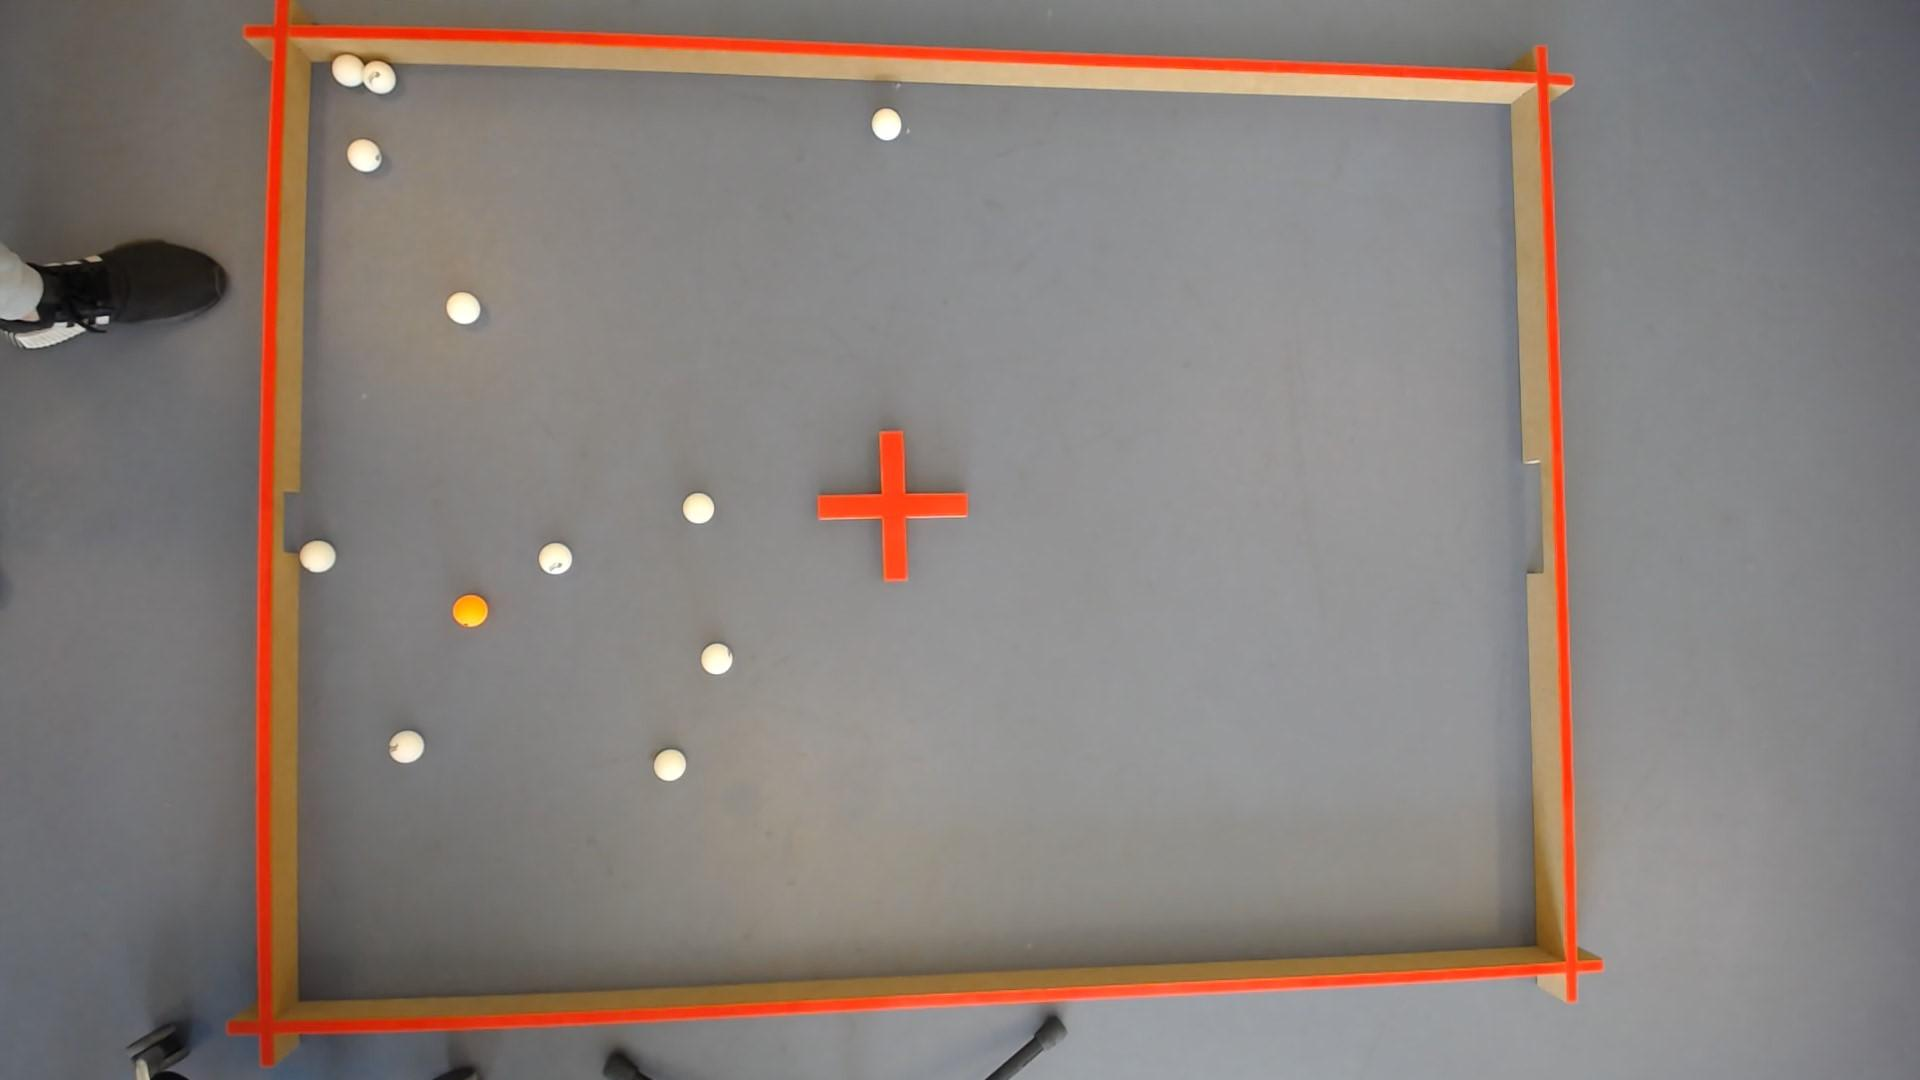orange: (451, 593, 487, 626)
white: (361, 57, 396, 91), (386, 731, 423, 762), (444, 290, 479, 323), (345, 137, 380, 170), (330, 50, 363, 84), (297, 541, 334, 571), (651, 749, 686, 781), (872, 105, 903, 137), (700, 642, 732, 674), (538, 542, 570, 574), (682, 492, 713, 522)
